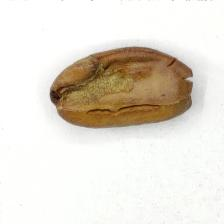NG: (59, 50, 194, 117)
